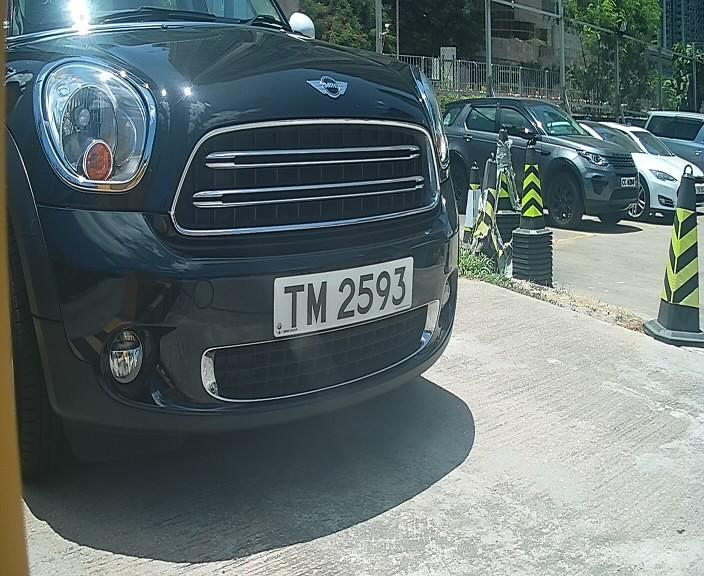privatecar: (10, 16, 481, 463)
